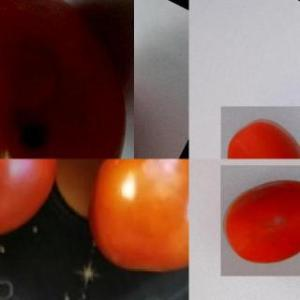tomato: (92, 160, 188, 282), (221, 165, 300, 275), (0, 160, 60, 250), (221, 106, 300, 158)
